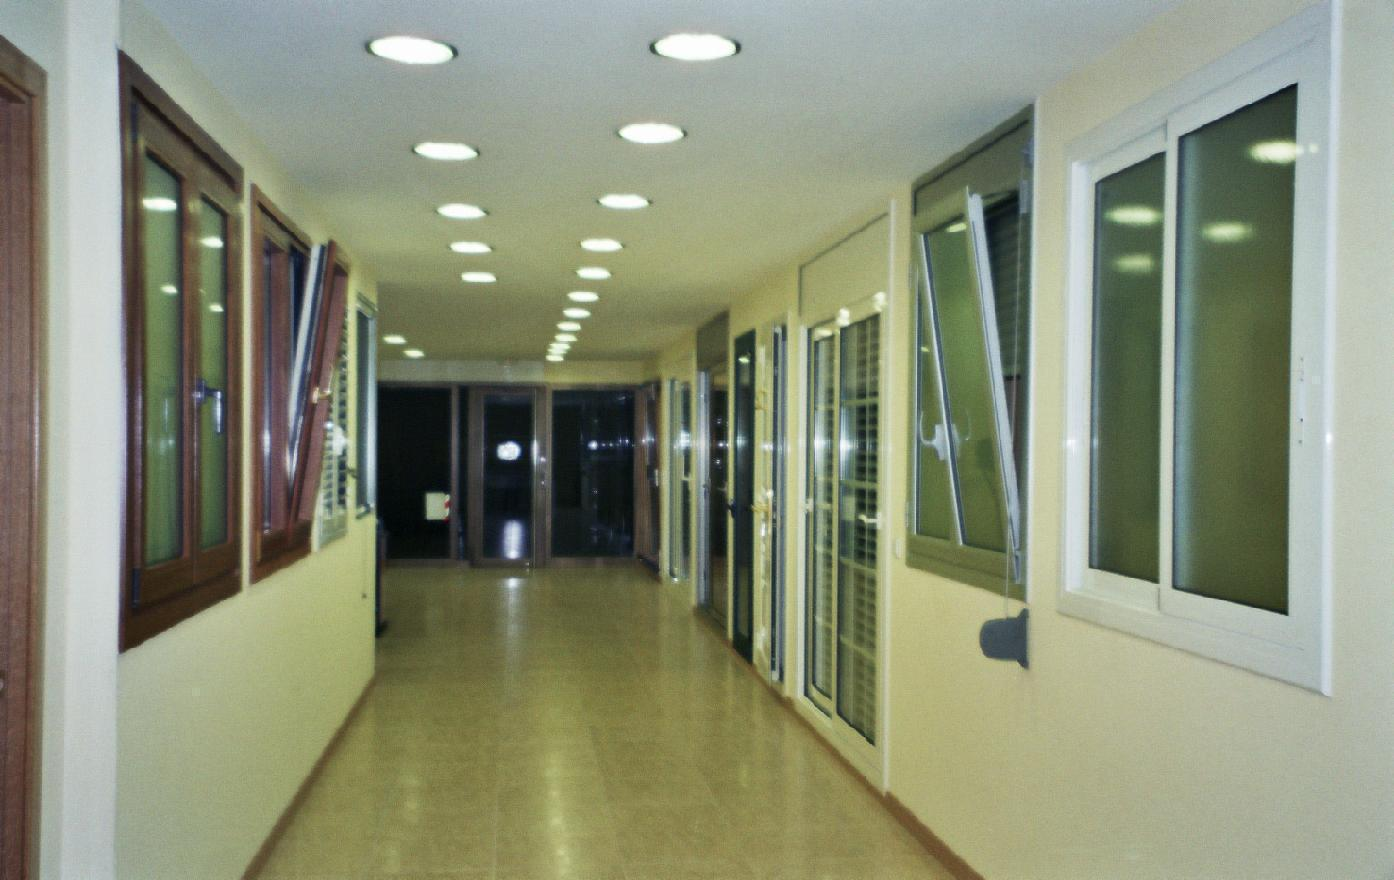Puerta: (804, 322, 886, 790)
Ventana: (1047, 109, 1339, 700), (107, 153, 253, 642), (898, 176, 1029, 601), (250, 177, 318, 571)
